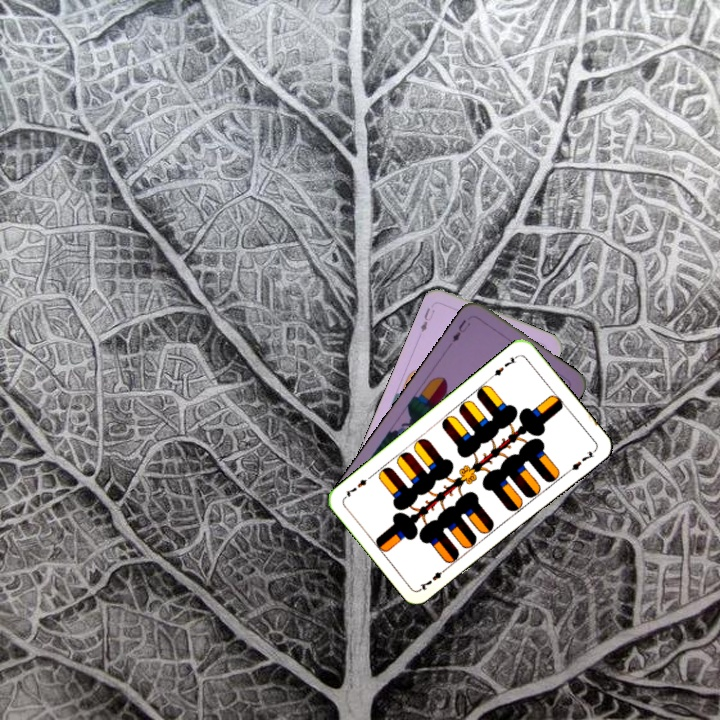E7: (486, 351, 521, 381), (416, 563, 451, 593)
EU: (448, 315, 473, 345), (416, 304, 437, 335)
